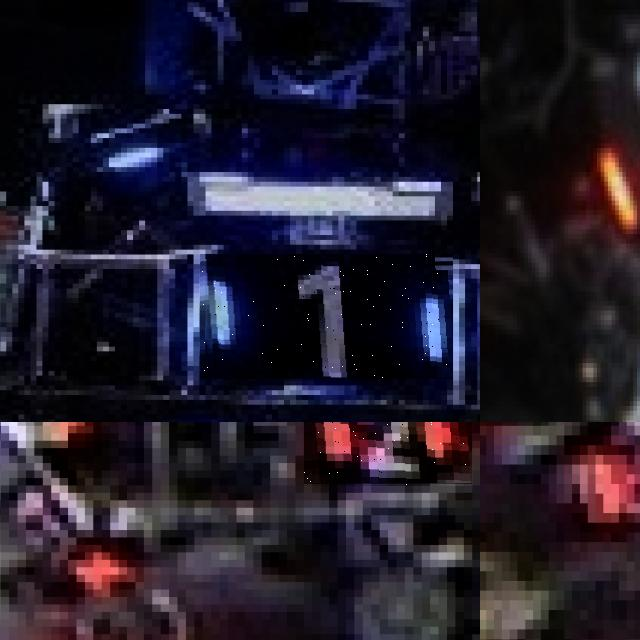B1: (200, 254, 453, 380)
R2: (303, 422, 472, 485), (593, 23, 640, 224)
R3: (572, 422, 640, 522)
